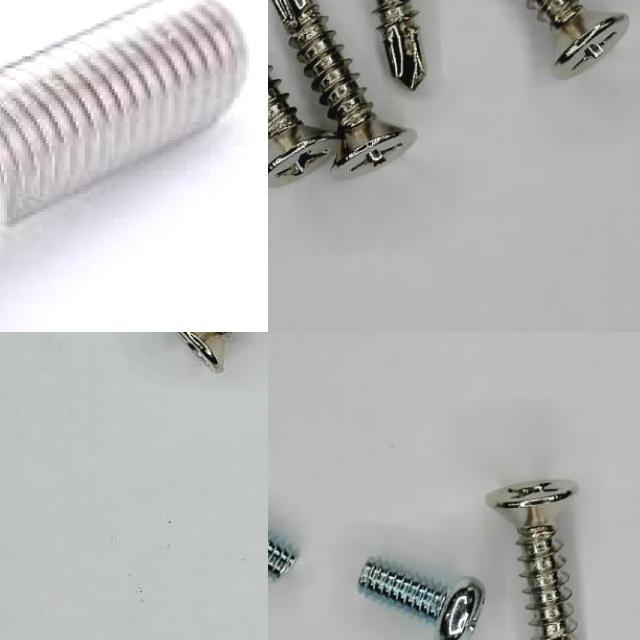Screw: (0, 0, 246, 243), (271, 0, 417, 174), (486, 480, 579, 640), (358, 559, 485, 640), (268, 66, 336, 186), (527, 0, 629, 78), (376, 0, 425, 89)
